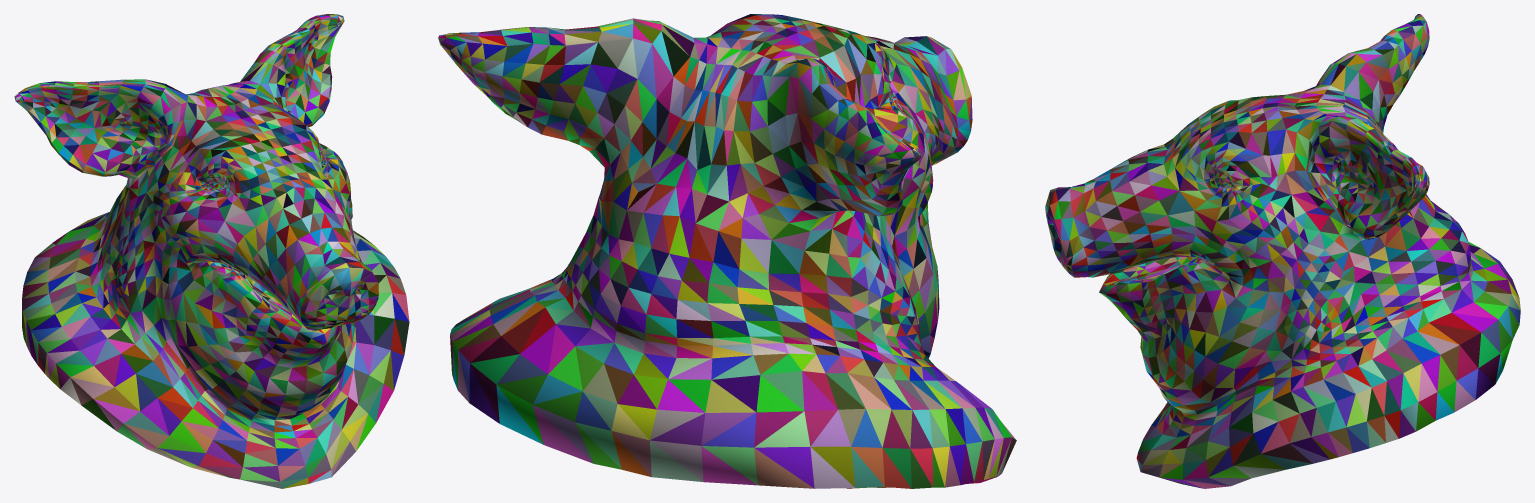
File: pig_head.fbx
3 views of the same model, side by side, from view 1: azimuth 30°, elevation 25°; view 2: azimuth 150°, elevation 25°; view 3: azimuth 270°, elevation 25° (orthographic). The views are drawn at different scales.
Visible parts, largest first — view 1: geo1; view 2: geo1; view 3: geo1.
Boxes of the visible parts, x1,y1,x2,y2 form: geo1: (14, 14, 409, 488); geo1: (438, 14, 1016, 488); geo1: (1045, 14, 1520, 488).
Size of the model in its own units: 2 by 1.9 by 2.2.
